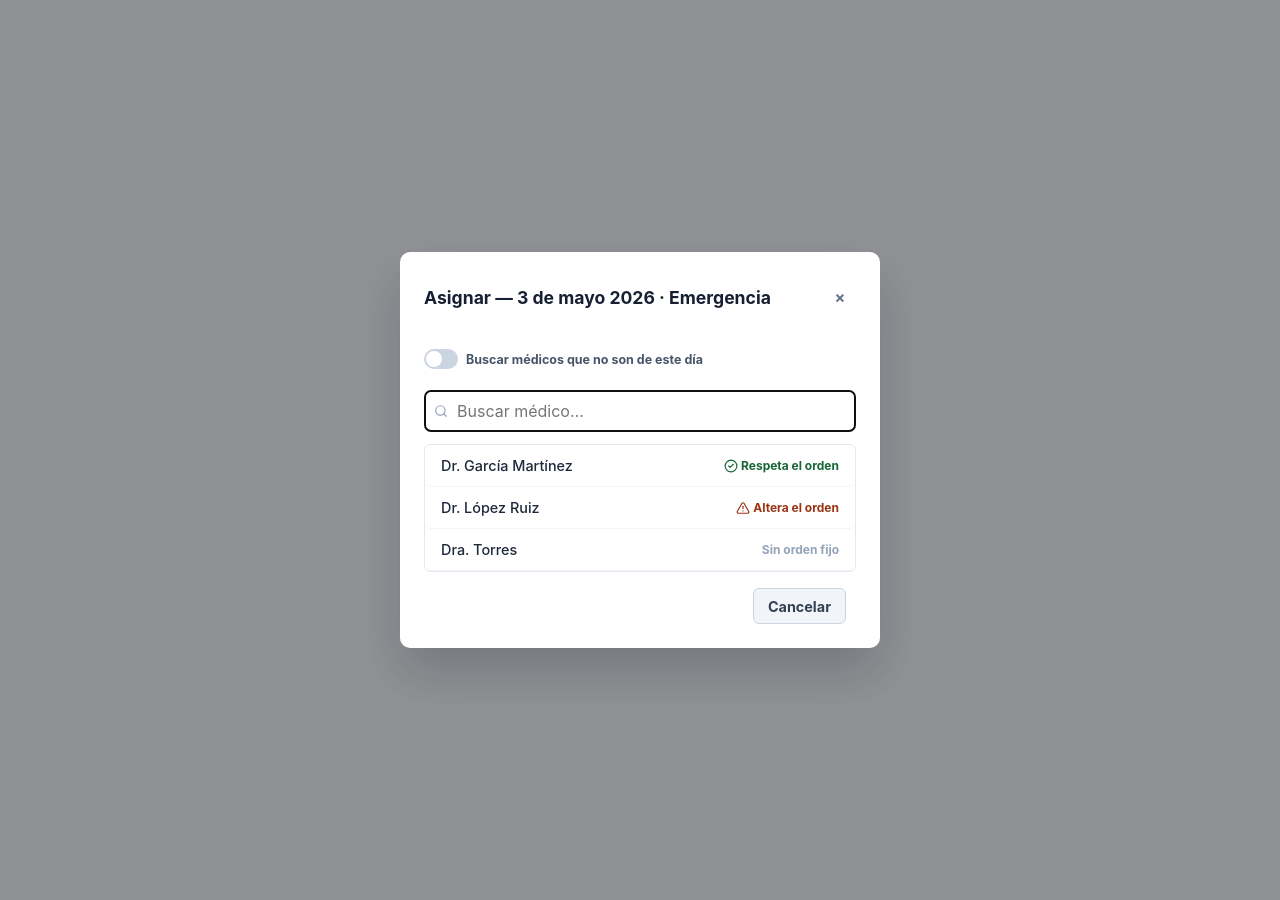
Test: AssignDoctorModal › muestra error cuando hay hard_blocks
Click the text "Dr. García Martínez" at (507, 466), box [441, 457, 573, 474]
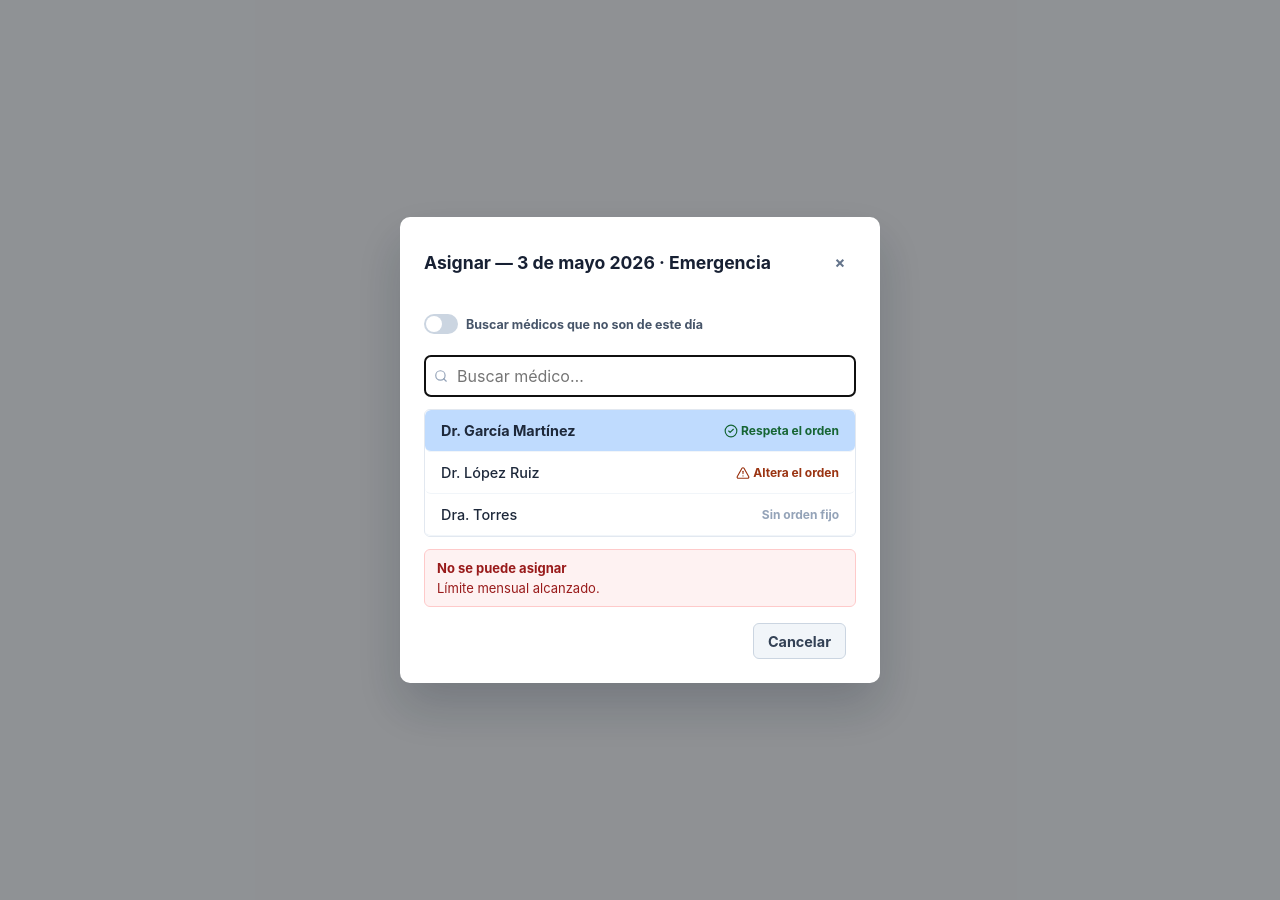
expect the text "Límite mensual alcanzado." is shown: met, box [437, 580, 600, 596]
